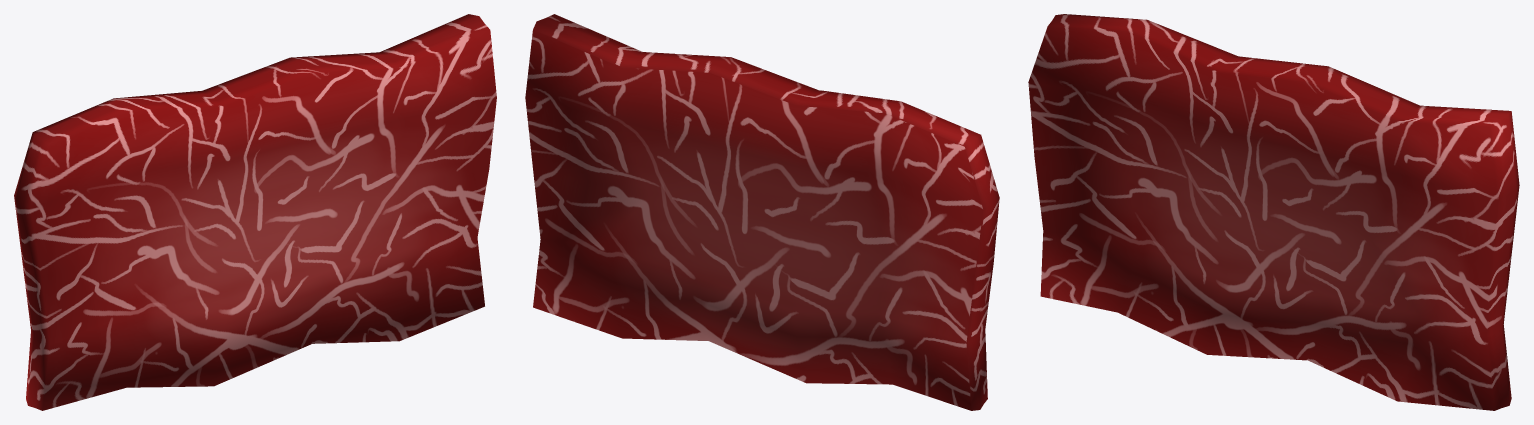
The model's file is short_rib_prime.fbx.
3 views of the same model, side by side, from view 1: azimuth 30°, elevation 25°; view 2: azimuth 150°, elevation 25°; view 3: azimuth 330°, elevation 25° (orthographic). The views are drawn at different scales.
Visible parts, largest first — view 1: short_rib_prime; view 2: short_rib_prime; view 3: short_rib_prime.
Boxes of the visible parts, box(x1,y1,x2,y2) form: short_rib_prime: box(14, 14, 496, 410); short_rib_prime: box(525, 14, 999, 410); short_rib_prime: box(1028, 14, 1519, 410).
Bounding box in the file's own units: 38.35 × 23.14 × 3.06.
